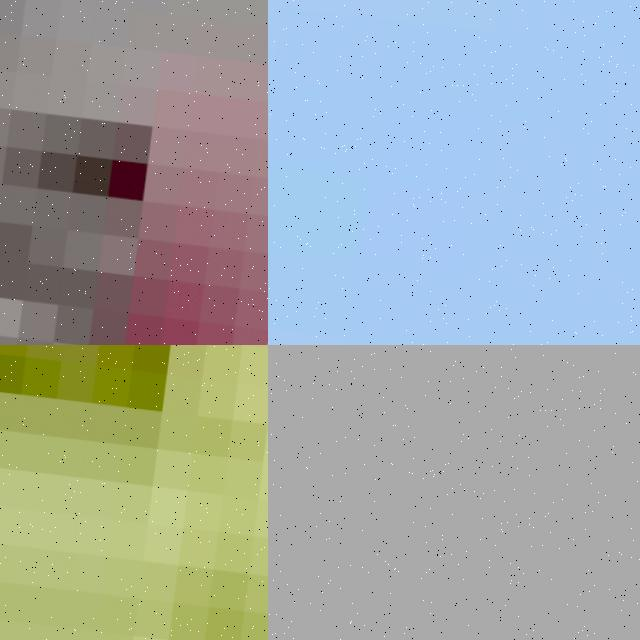drone: (268, 0, 640, 345), (0, 0, 268, 345), (0, 345, 268, 640)
